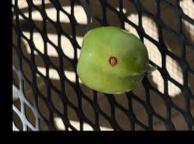rotten apple: (76, 26, 148, 95)
